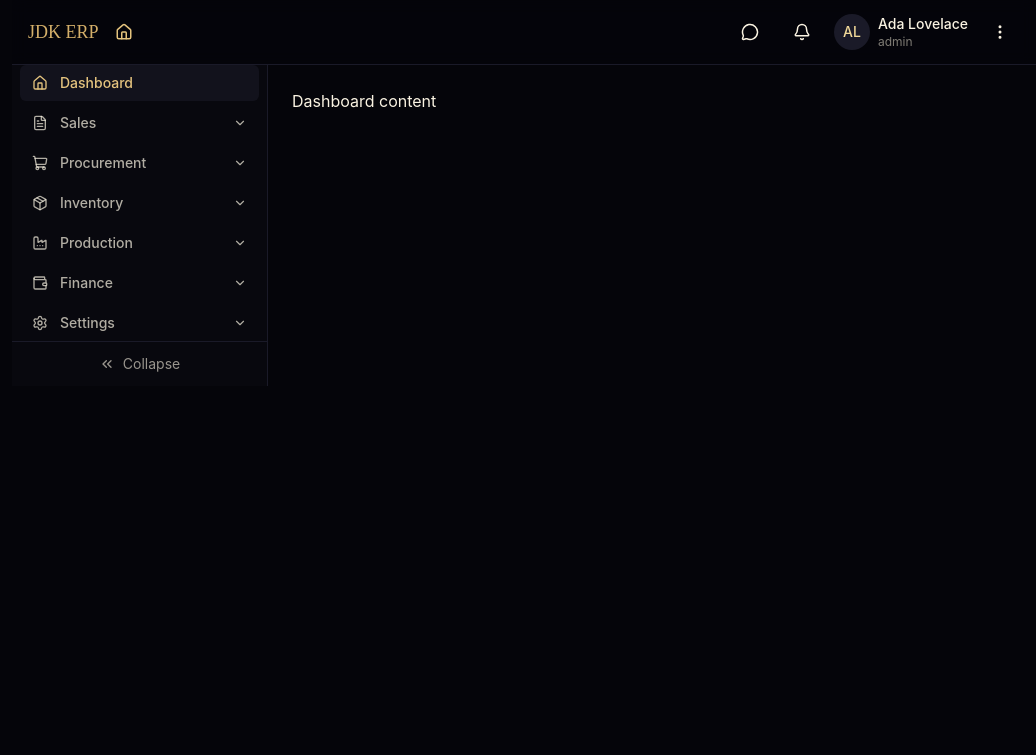
Test case: AppLayout › has one menu (the sidebar), an icon-only home link in the header, and Master Data under Settings
Expected: the number of navigation bars named "Main" is 1, [12,65,267,341]
Expected: the link named "Dashboard" does not show "Dashboard", [114,23,132,41]
Click the button "Settings" at (140, 323), box [20,305,259,341]
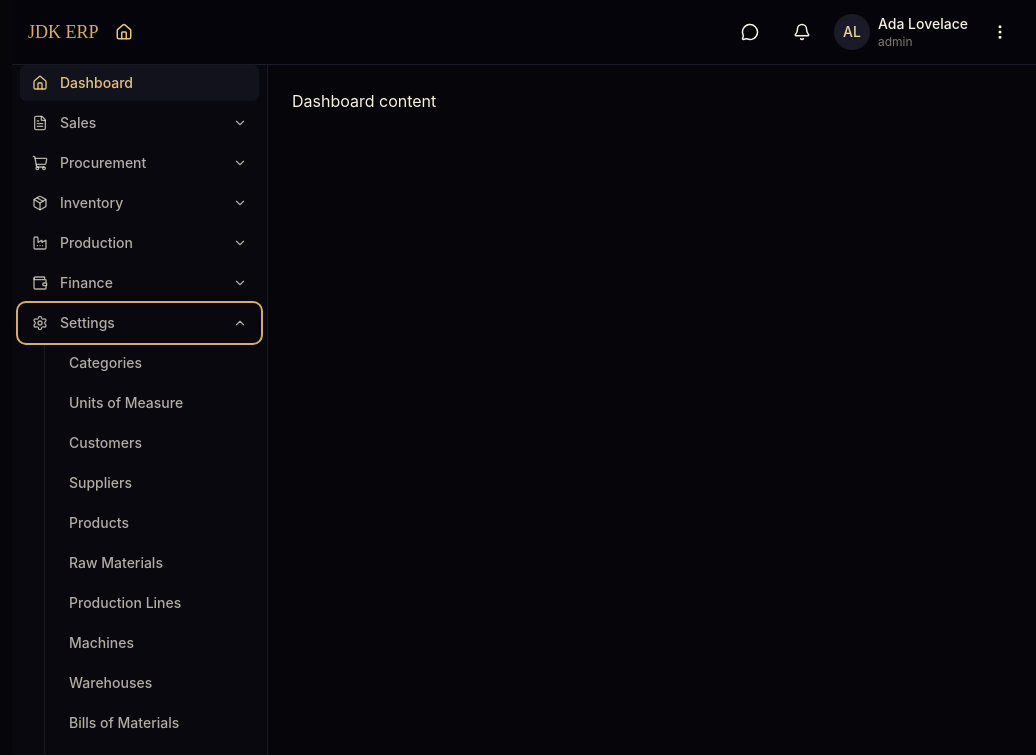
Expected: the button named "Open JDK Assistant" is shown, [730,12,770,52]
Now the link "Customers" is shown, box [69,434,142,451]
